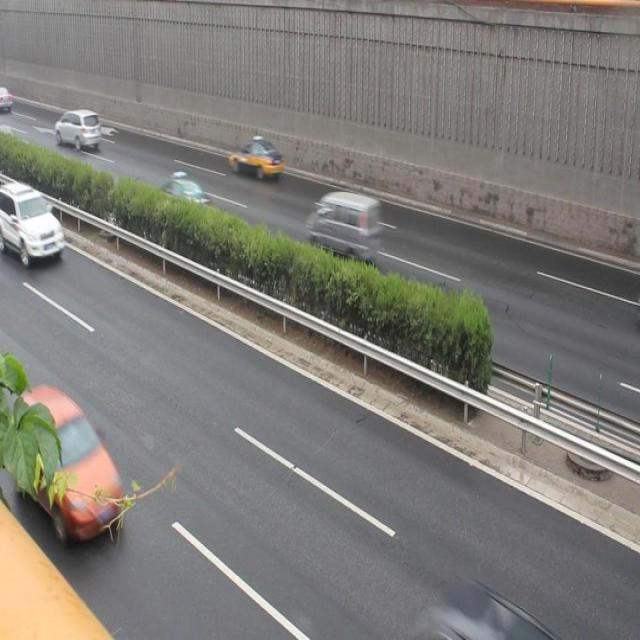car: (16, 387, 123, 537), (0, 186, 64, 262), (142, 177, 216, 237), (228, 136, 283, 182), (56, 108, 103, 154)
truck: (306, 189, 382, 261)
